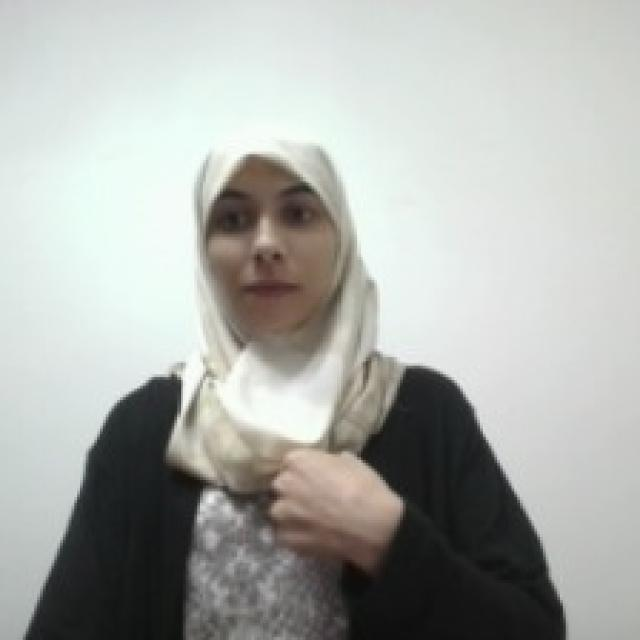me: (268, 441, 390, 556)
